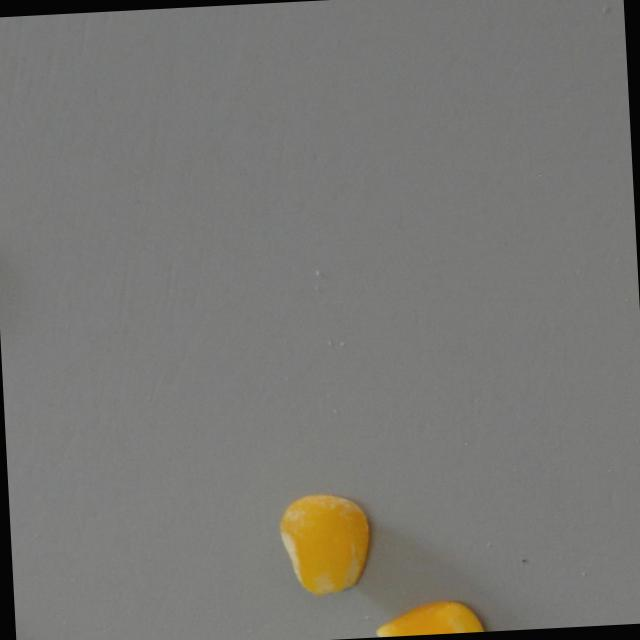no_canjicado: (371, 598, 491, 638)
pelicula: (275, 490, 375, 598)
